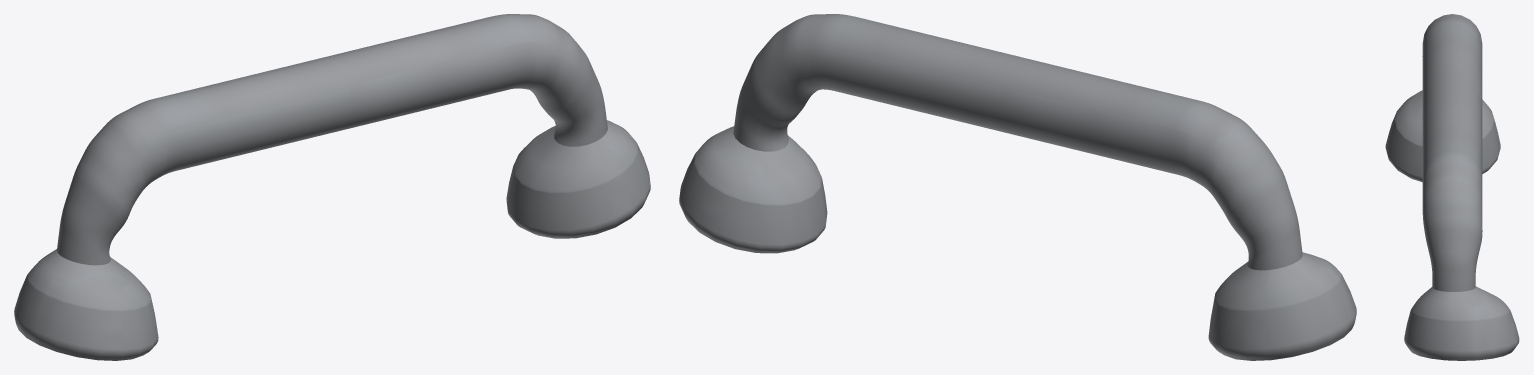
The model's file is Phone.fbx.
The picture shows the model from 3 angles, left to right: view 1: azimuth 30°, elevation 25°; view 2: azimuth 150°, elevation 25°; view 3: azimuth 270°, elevation 25°; orthographic projection. The views are drawn at different scales.
Visible parts, largest first — view 1: Phone2; view 2: Phone2; view 3: Phone2.
Boxes of the visible parts, x1,y1,x2,y2 form: Phone2: [14, 14, 650, 360]; Phone2: [679, 14, 1356, 360]; Phone2: [1385, 14, 1519, 360].
Bounding box in the file's own units: 153 × 51.63 × 35.96.
